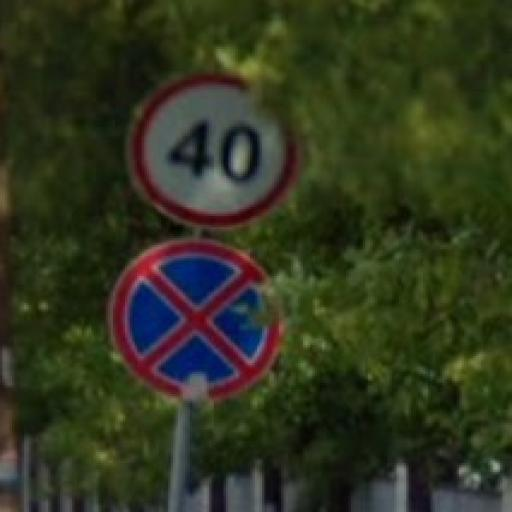traffic_sign: (109, 237, 285, 404), (126, 70, 306, 233)
